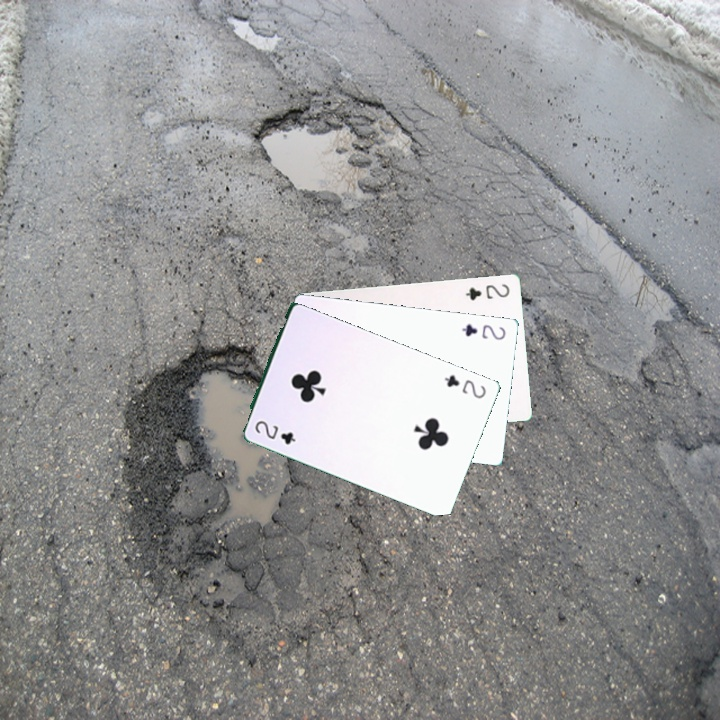2c: (440, 371, 489, 401), (251, 416, 298, 447), (461, 280, 512, 303), (457, 320, 508, 343)
